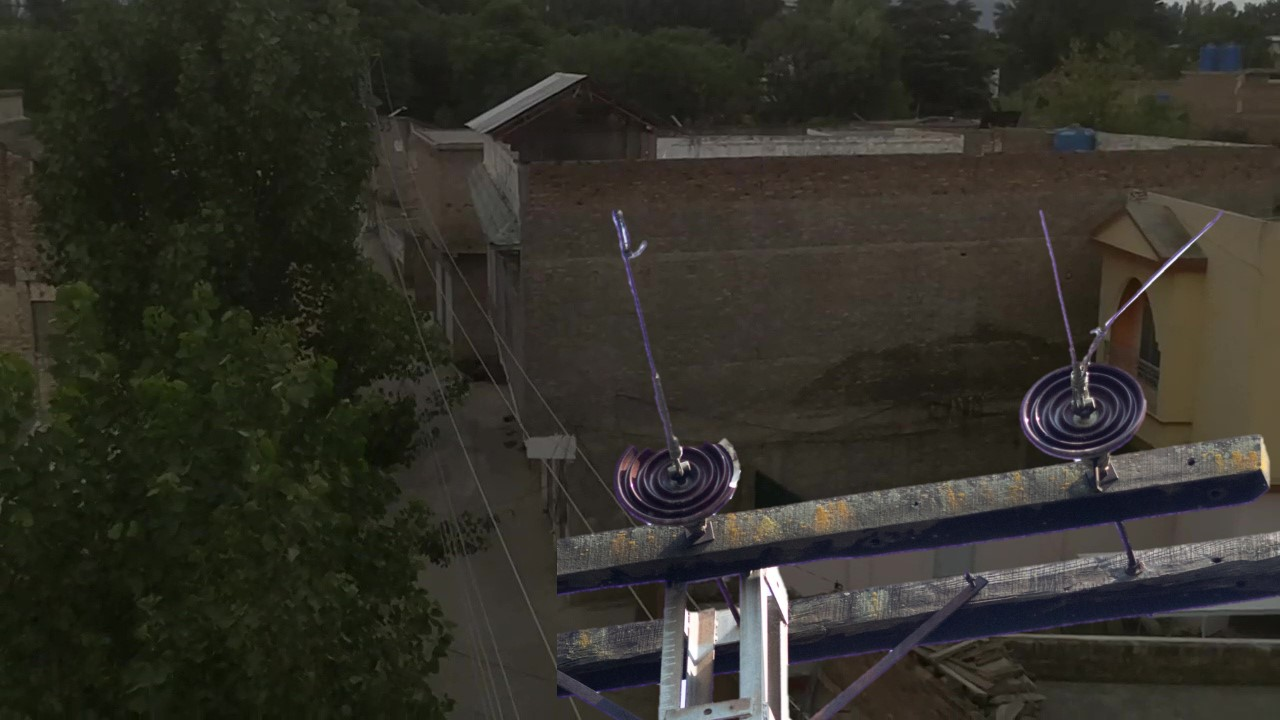defect_disc: (612, 426, 750, 533)
insulator_disc: (1014, 355, 1153, 457)
